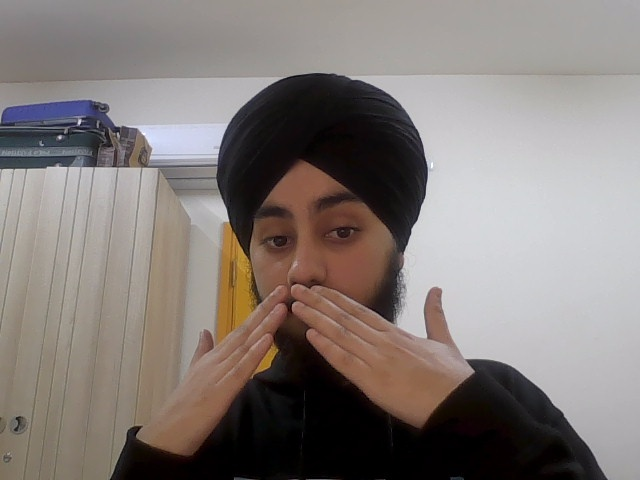Thanks: (143, 276, 476, 449)
